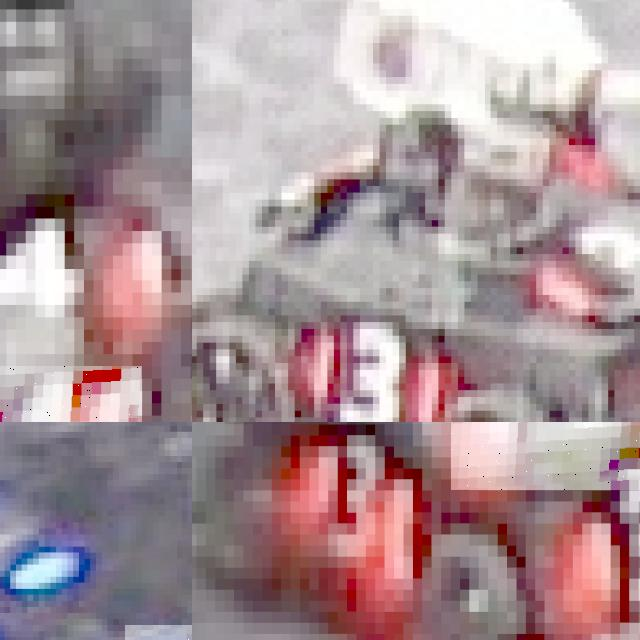B1: (0, 486, 73, 588)
R3: (281, 422, 413, 611), (307, 315, 444, 422), (563, 468, 640, 640), (450, 422, 640, 490)
R4: (0, 366, 142, 422)
